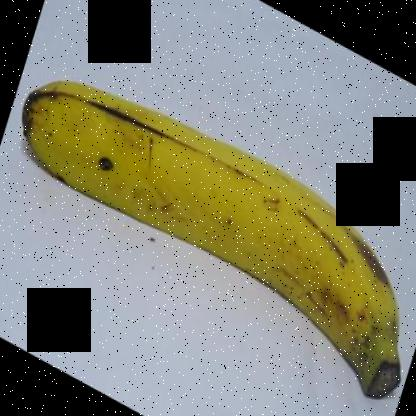ripe: (10, 59, 409, 415)
